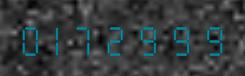nine: (137, 20, 166, 56), (167, 20, 196, 56), (197, 20, 226, 56)
one: (47, 20, 76, 56)
seven: (77, 20, 106, 56)
two: (107, 20, 136, 56)
zero: (17, 20, 46, 56)
